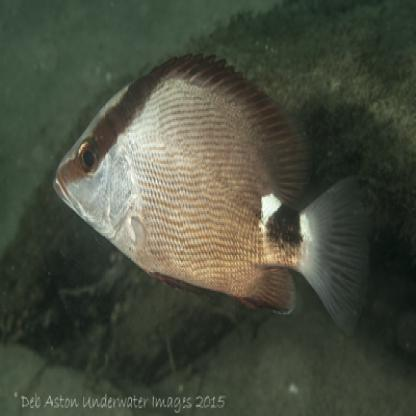snapper: (50, 50, 378, 345)
